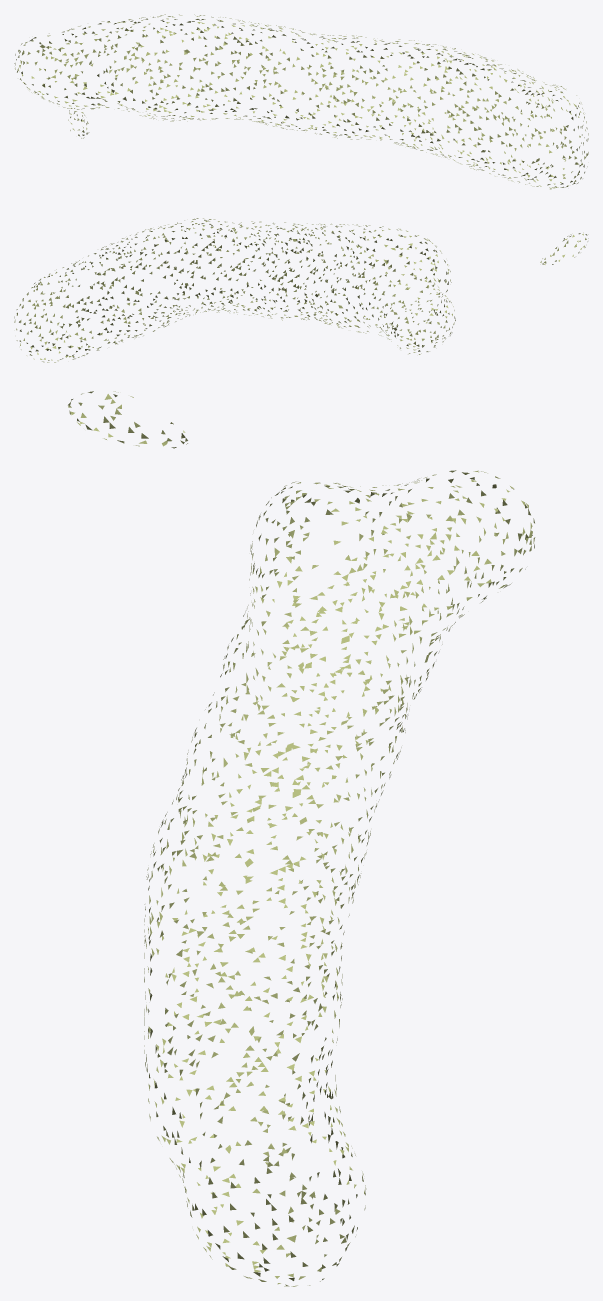
Rendered from morph_010.glb.
3 views of the same model, one above another, from view 1: azimuth 30°, elevation 25°; view 2: azimuth 150°, elevation 25°; view 3: azimuth 270°, elevation 25° (orthographic). The views are drawn at different scales.
Size of the model in its own units: 109 by 45.62 by 43.37.
